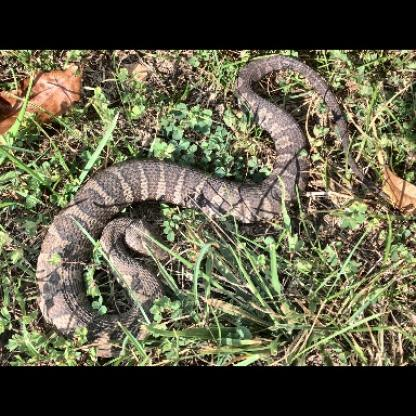Snake: (8, 66, 416, 344)
